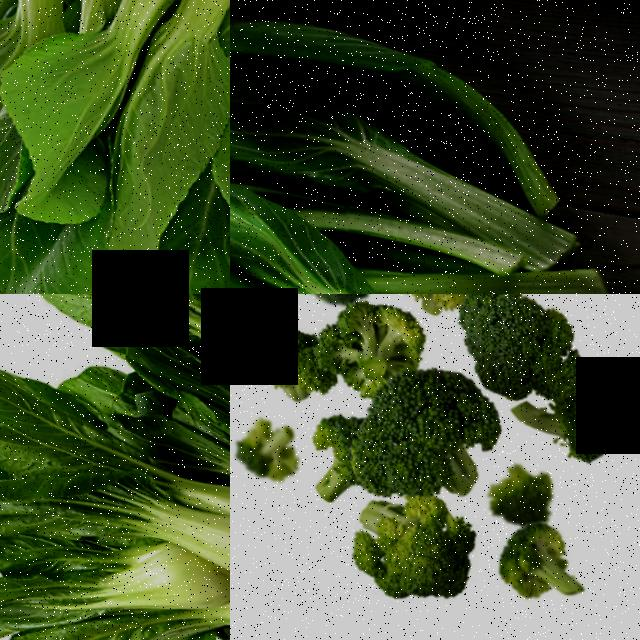bok choy: (230, 102, 587, 294), (0, 0, 207, 294), (84, 0, 230, 294), (0, 409, 230, 567), (0, 514, 224, 640), (0, 294, 230, 359), (123, 347, 230, 468)
broccoli: (321, 345, 507, 507), (330, 489, 471, 622), (471, 503, 593, 623), (444, 294, 586, 392), (492, 373, 617, 469), (308, 294, 422, 383), (230, 305, 321, 405)
